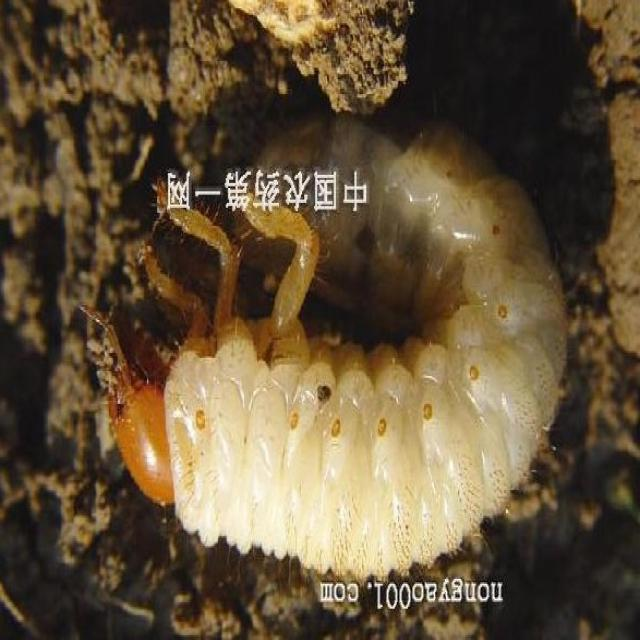grub: (109, 112, 576, 593)
